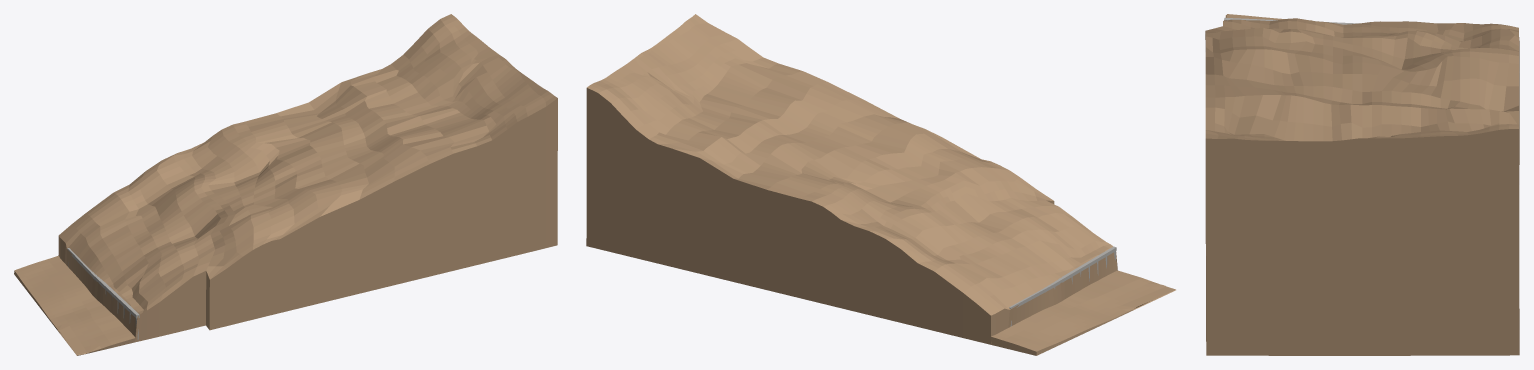
File: ngl.glb
3 renders of one model, left to right at view 1: azimuth 30°, elevation 25°; view 2: azimuth 150°, elevation 25°; view 3: azimuth 270°, elevation 25°, orthographic. The views are drawn at different scales.
Parts seen in each view (by area): view 1: Terrain 01 - NGL.003, Cube.200; view 2: Terrain 01 - NGL.003, Cube.200; view 3: Terrain 01 - NGL.003.
Boxes of the visible parts, bbox=[...] form: Terrain 01 - NGL.003: bbox=[14, 14, 557, 355]; Cube.200: bbox=[67, 248, 139, 318]; Terrain 01 - NGL.003: bbox=[586, 14, 1175, 355]; Cube.200: bbox=[1009, 246, 1116, 308]; Terrain 01 - NGL.003: bbox=[1205, 14, 1519, 355].
Bounding box in the file's own units: 45.8 × 14.19 × 17.83.
